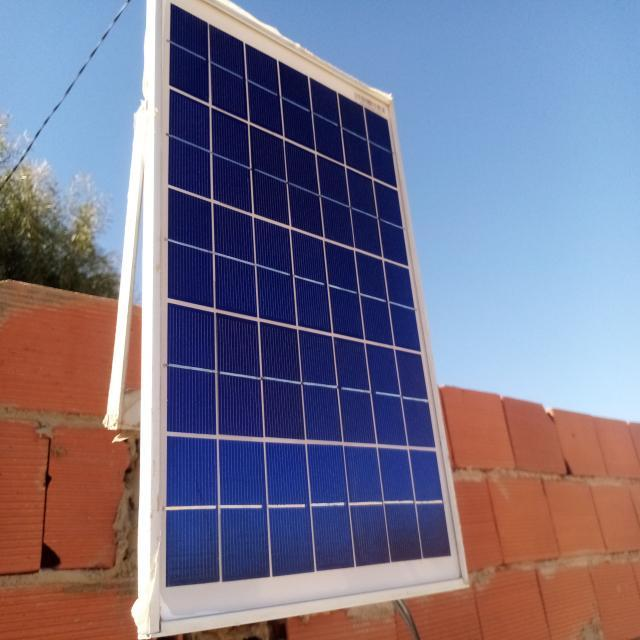no faulty: (152, 0, 468, 638)
